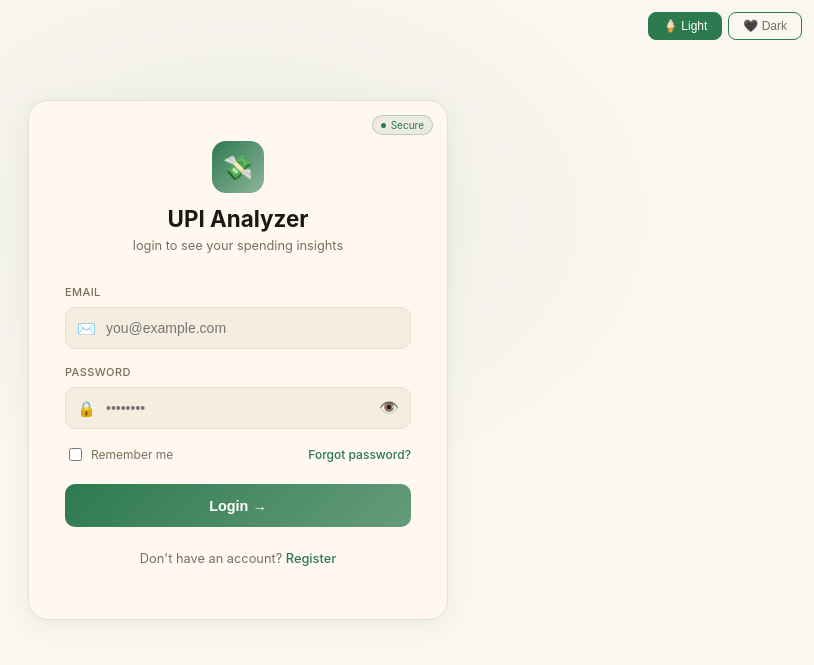
Test case: Login page › tells the user when the server cannot be reached
The width and height of the screenshot is (814, 665).
Type "k@t.com" into the field with placeholder "you@example.com" at (238, 328), box [65,307,411,349]
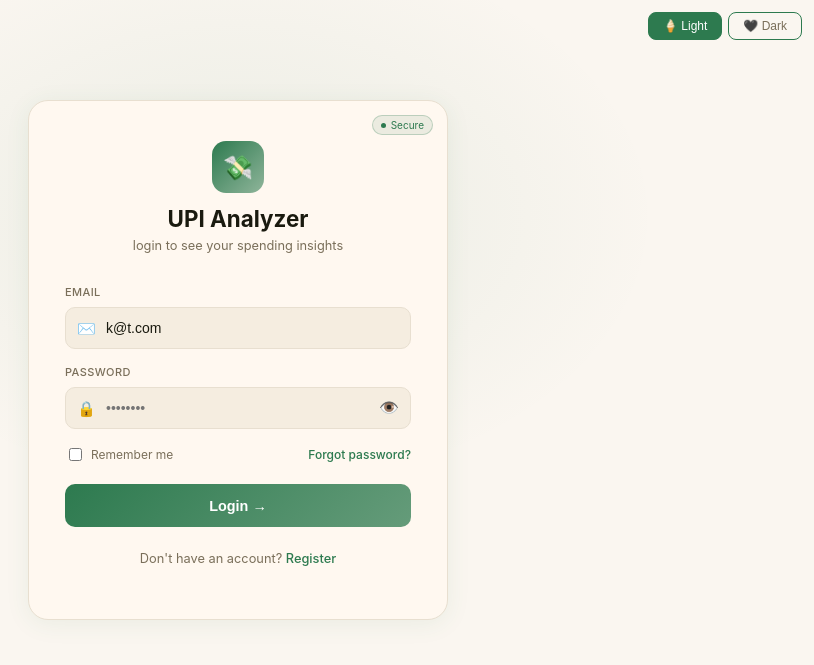
Type "secret123" into the password field with placeholder "••••••••" at (238, 408), box [65,387,411,429]
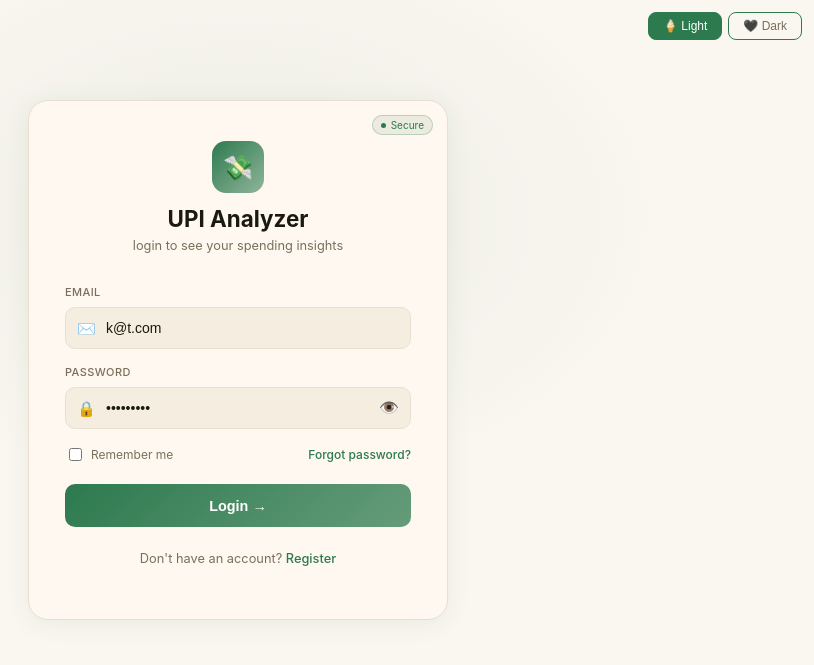
Click the button "Login →" at (238, 506), box [65,484,411,527]
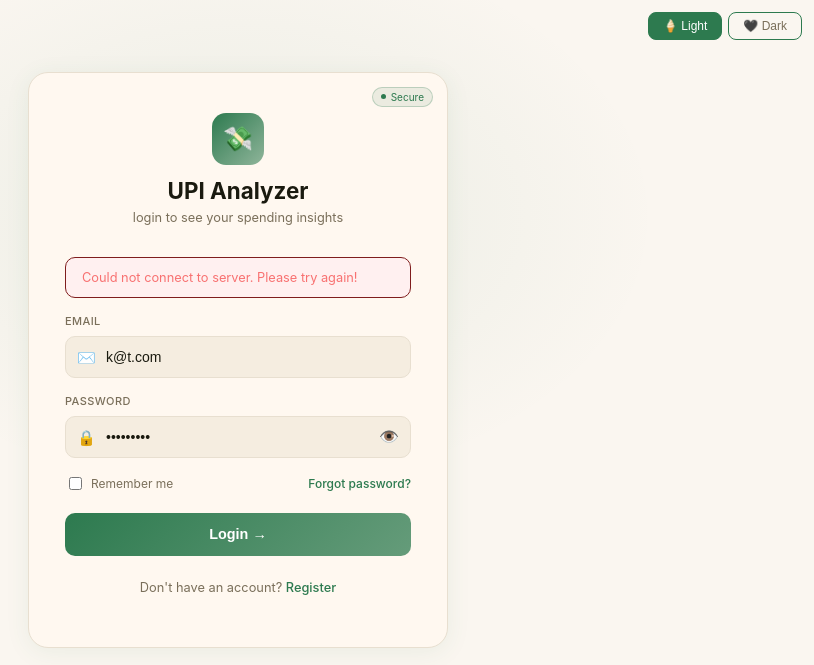
Expected: the text "Could not connect to server. Please try again!" is shown, [65,256,411,298]
